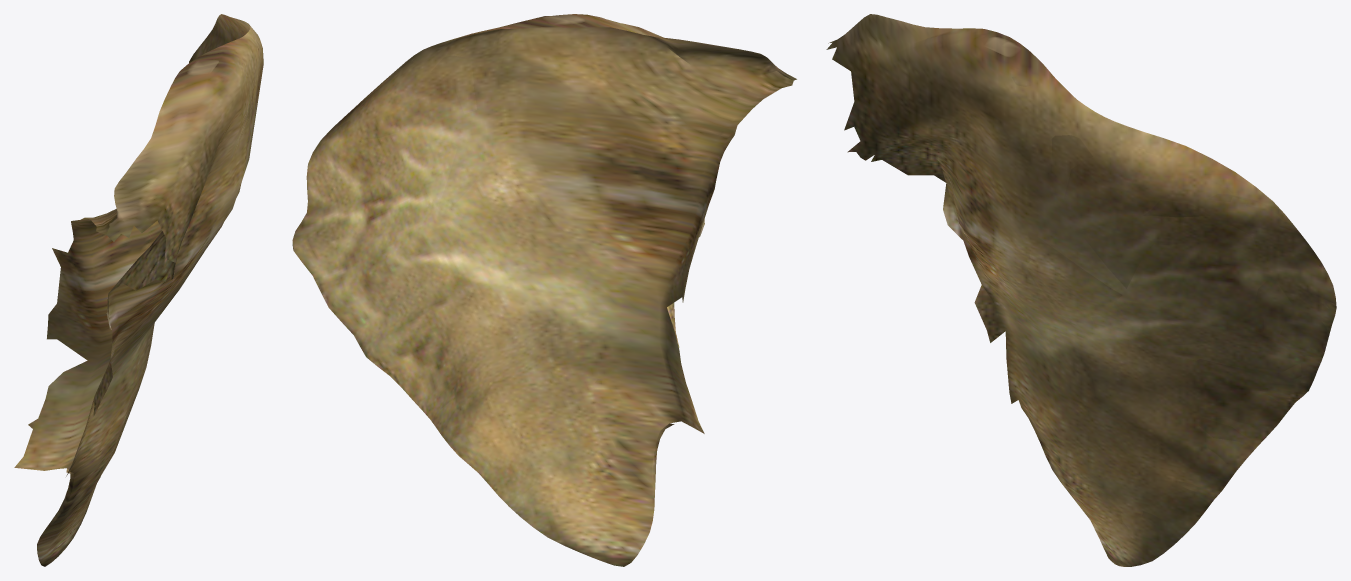
Rendered from oidoDer.obj.
3 renders of one model, left to right at view 1: azimuth 30°, elevation 25°; view 2: azimuth 150°, elevation 25°; view 3: azimuth 270°, elevation 25°, orthographic. The views are drawn at different scales.
Visible parts, largest first — view 1: MainEleM.005; view 2: MainEleM.005; view 3: MainEleM.005.
Part boxes in pixels (<box>): MainEleM.005: <box>14,14,263,566</box>; MainEleM.005: <box>292,14,796,566</box>; MainEleM.005: <box>826,14,1336,566</box>.
Size of the model in its own units: 0.2153 by 0.3374 by 0.271.
Materials: 1 (1 with a texture image).
